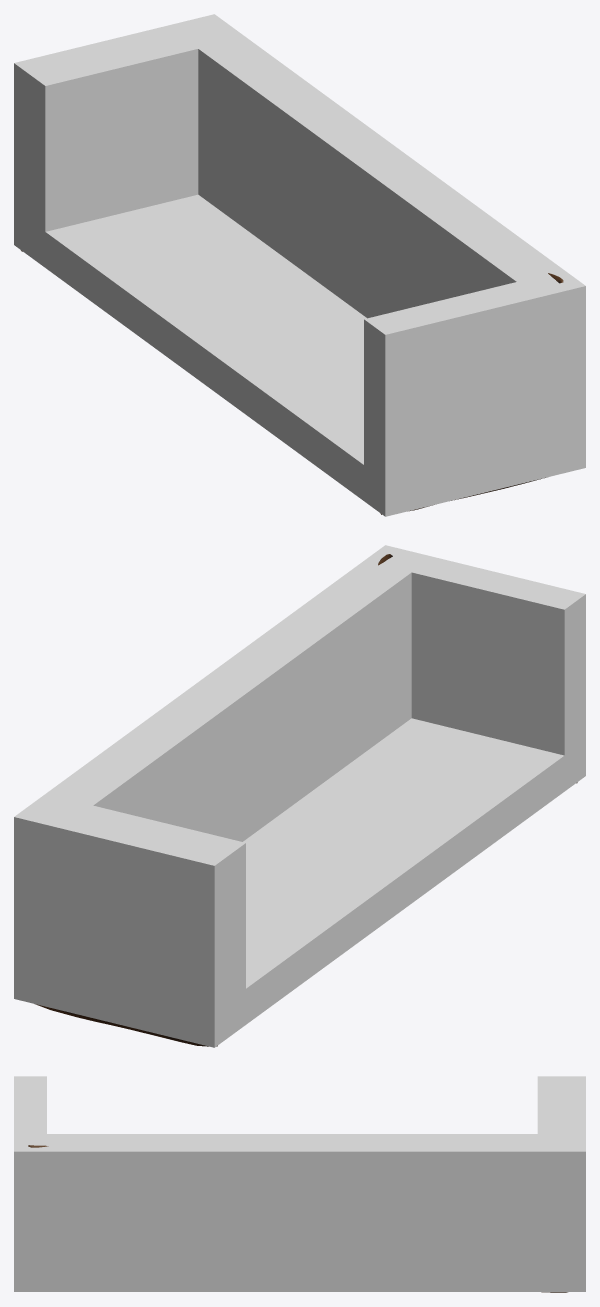
The model's file is Makchara_V3.fbx.
3 views of the same model, one above another, from view 1: azimuth 30°, elevation 25°; view 2: azimuth 150°, elevation 25°; view 3: azimuth 270°, elevation 25° (orthographic). The views are drawn at different scales.
Visible parts, largest first — view 1: Cube.002; view 2: Cube.002; view 3: Cube.002.
Part boxes in pixels (x1=…): Cube.002: x1=14, y1=14, x2=585, y2=516; Cube.002: x1=14, y1=545, x2=585, y2=1047; Cube.002: x1=14, y1=1076, x2=585, y2=1291.
Size of the model in its own units: 173 by 157 by 554.
